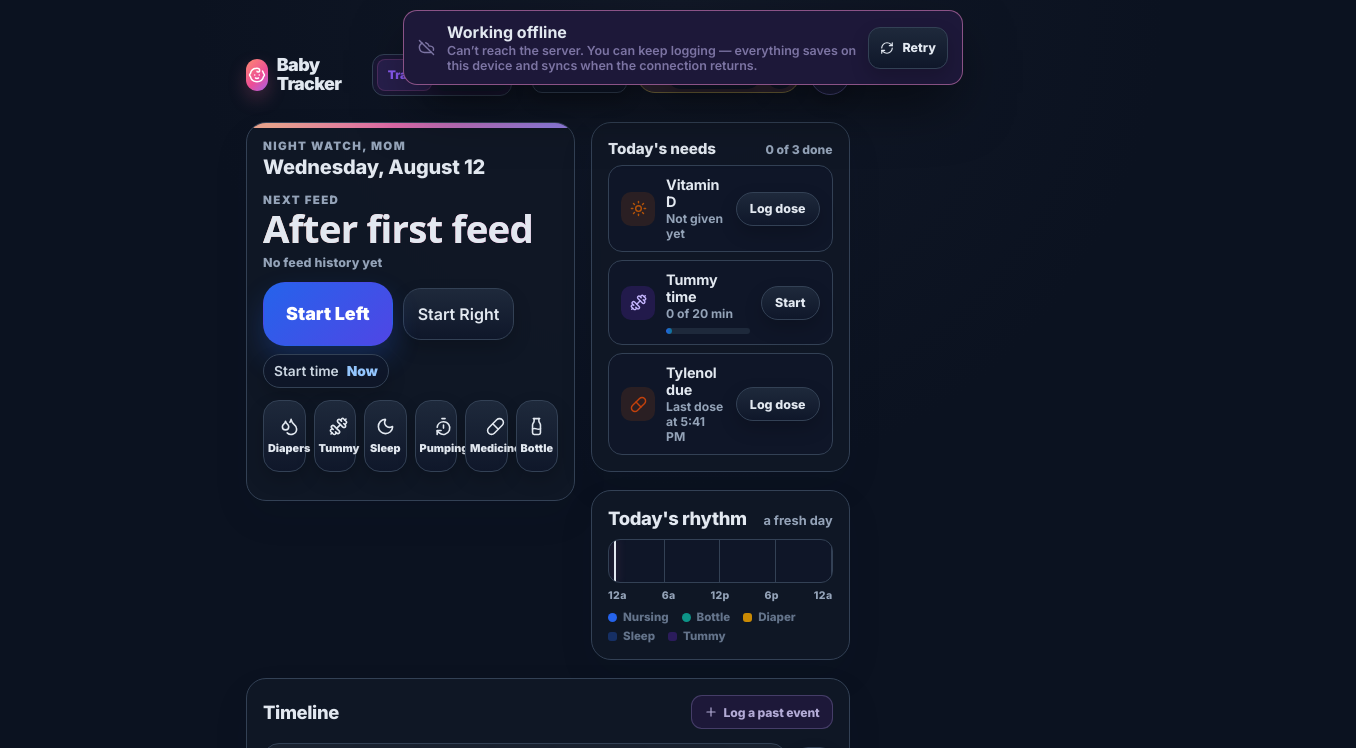
Test: caregiver today brief › keeps Today’s needs visible and never restores the legacy reminder banner during an active timer
Expected: the text "Tylenol due" is shown, 666,364 -> 725,398
Click the button with aria-label "Start suggested side". click: x=328, y=314
box: 263,282 -> 393,346
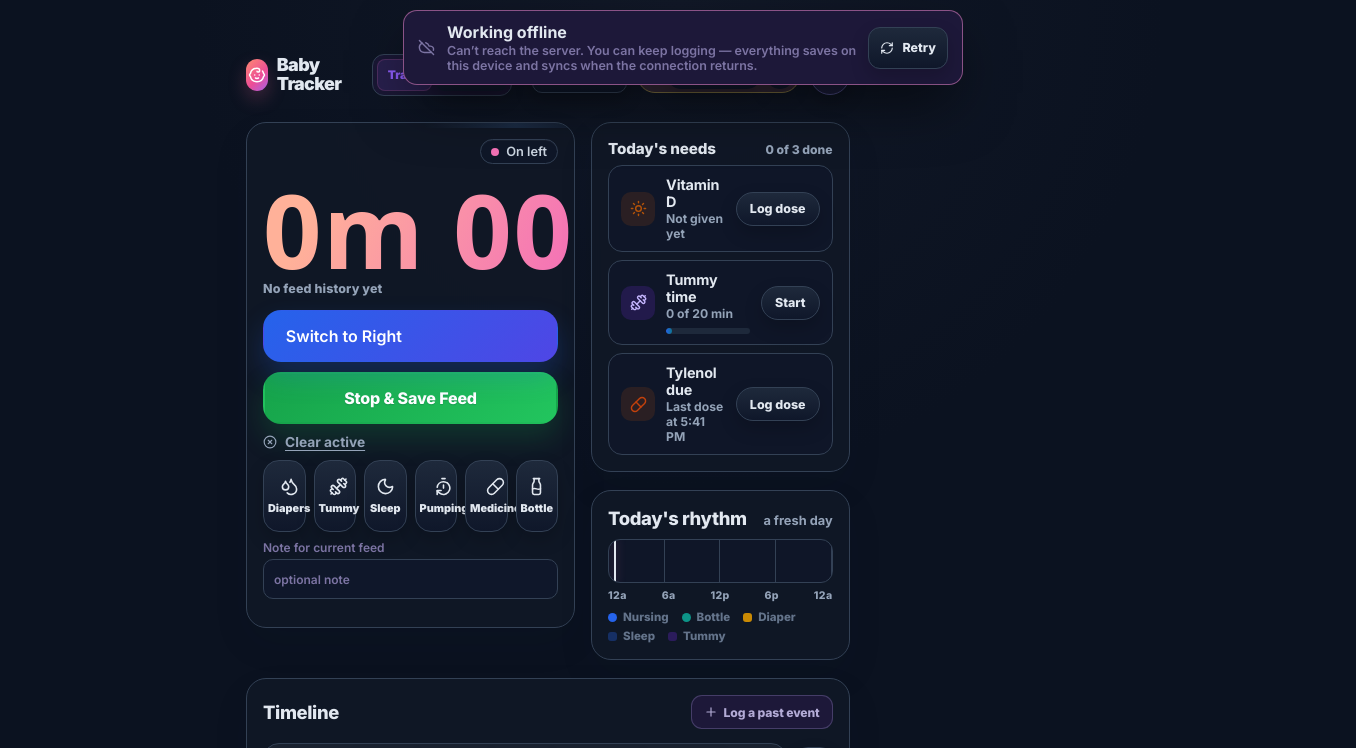
Expected: the element "Today's needs" is shown, 591,122 -> 850,472
Result: the element with class "is-live" is shown at 263,185 -> 575,275
